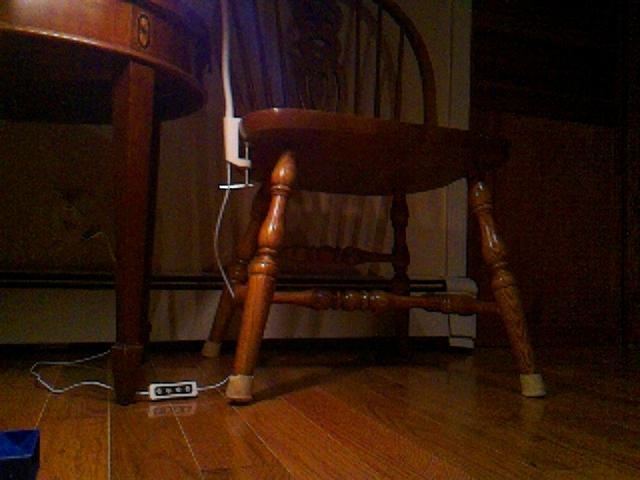blue: (1, 426, 42, 480)
